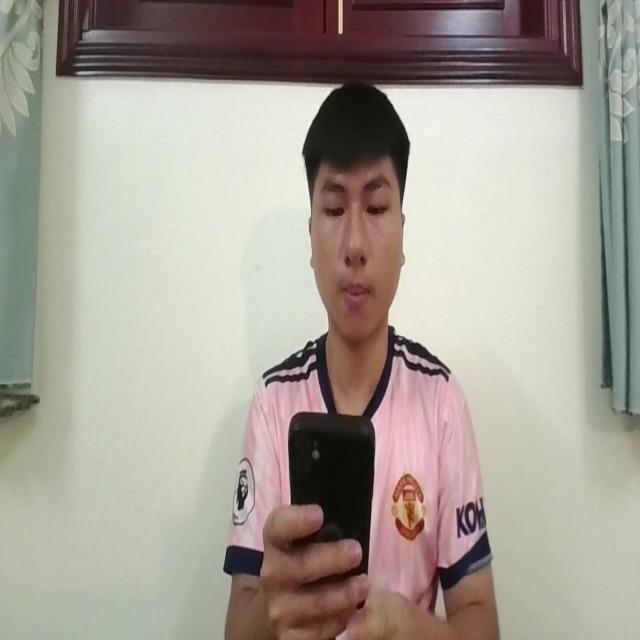phone: (286, 399, 374, 599)
student: (223, 75, 496, 640)
